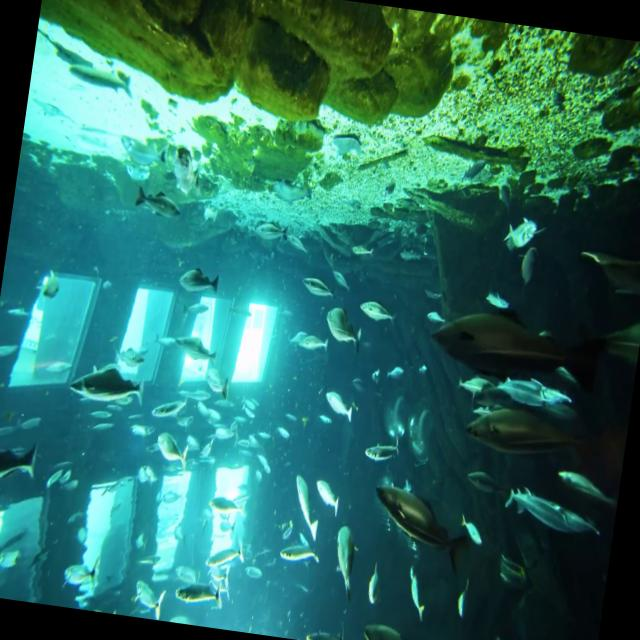fish: (367, 482, 478, 572), (501, 483, 604, 547), (68, 366, 147, 420), (288, 469, 326, 540), (0, 433, 37, 496), (320, 302, 367, 351), (329, 526, 362, 594), (132, 180, 184, 222), (175, 572, 229, 610), (134, 576, 167, 620), (156, 431, 192, 471), (206, 538, 248, 572), (503, 215, 536, 252), (180, 267, 220, 296)
